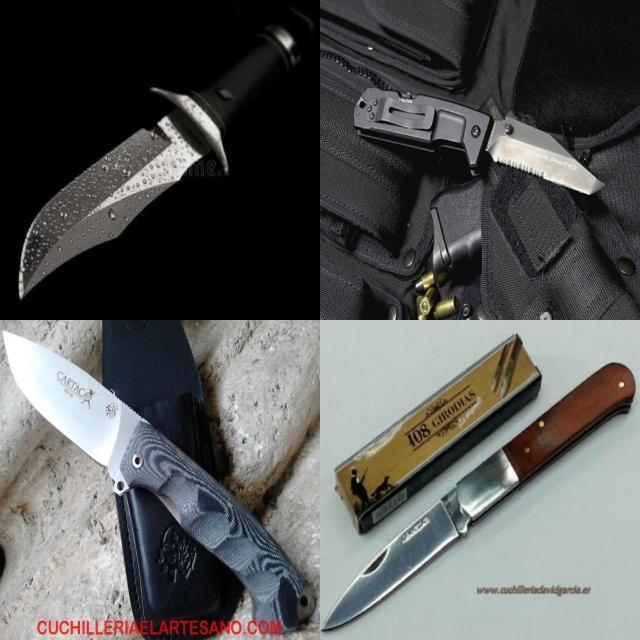-: (325, 369, 635, 639), (17, 32, 231, 305), (0, 326, 142, 472), (480, 108, 614, 199)
